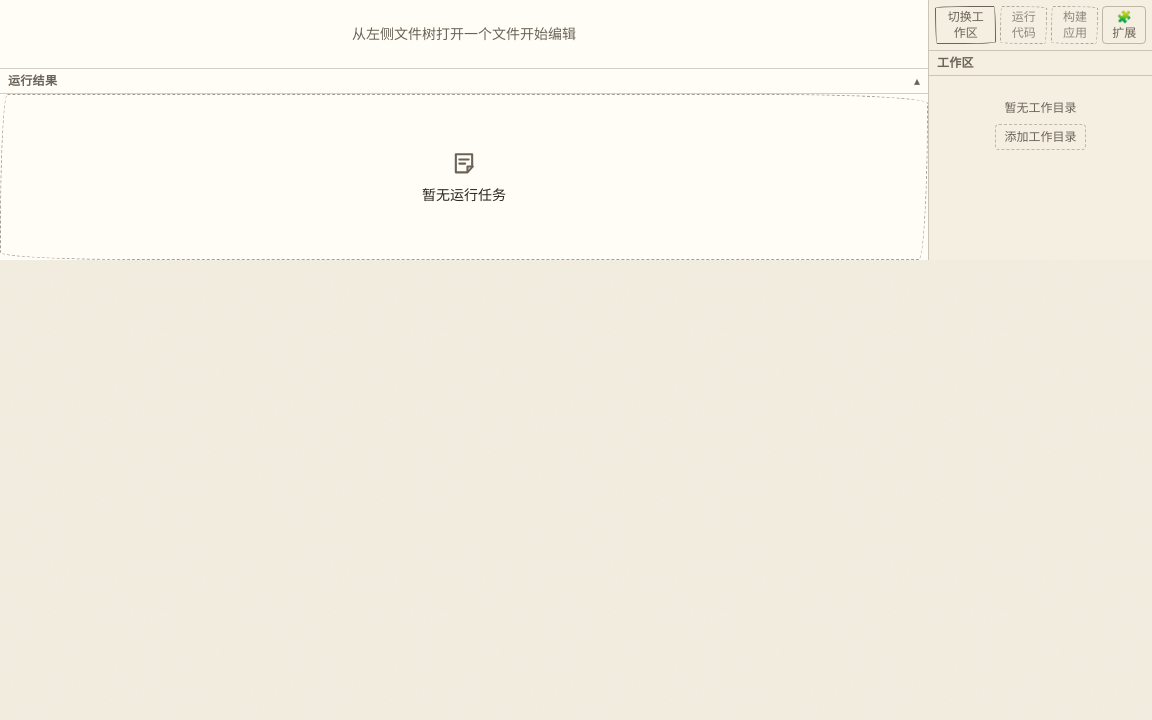
Scenario: EditorArea — workspace sidebar toolbar › 新增工作区 button opens create dialog
Click the button "切换工作区".
click(966, 25)  # box [935,6,996,44]
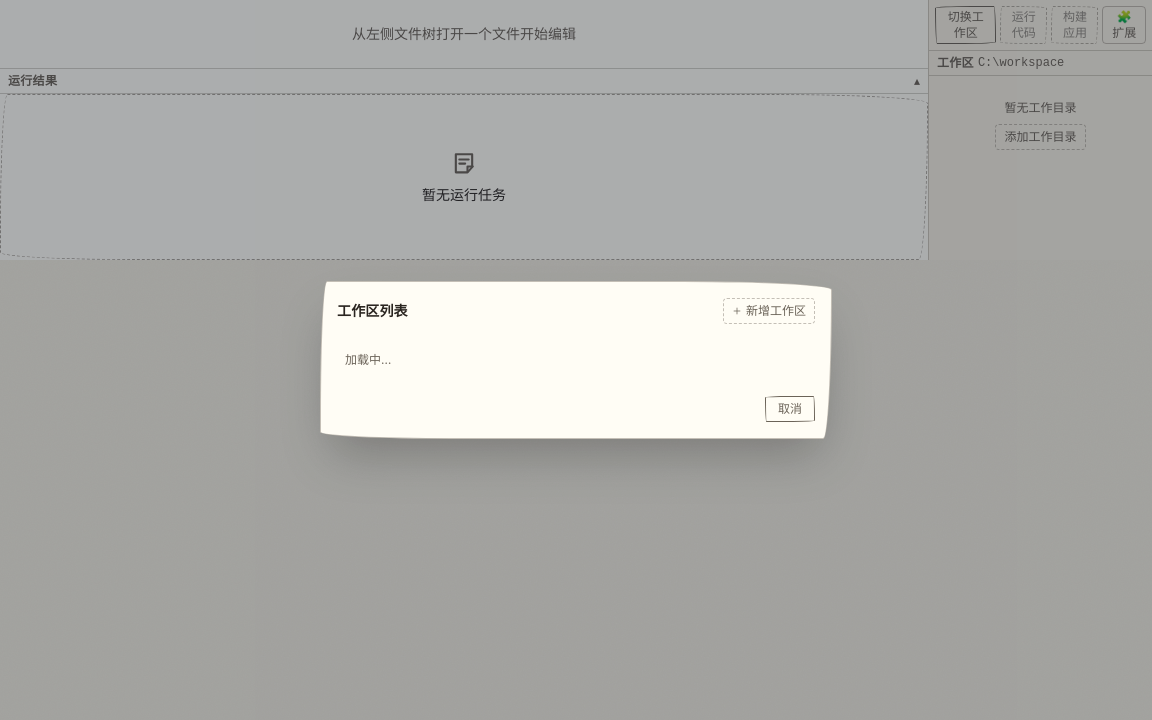
Click the button "新增工作区".
click(769, 311)  # box [723,298,815,324]
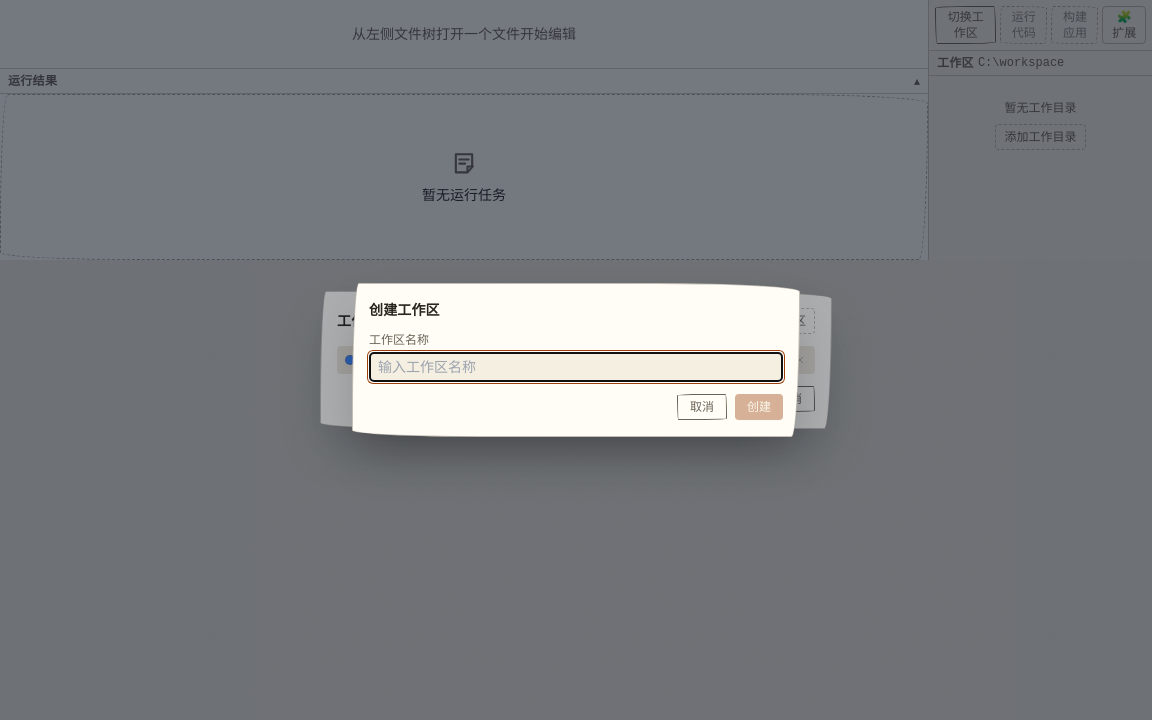
Expected: the field with placeholder "输入工作区名称" is shown, [369,352,783,382]
